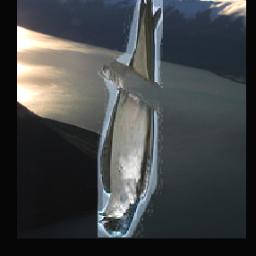Swallow: (97, 0, 162, 237)
